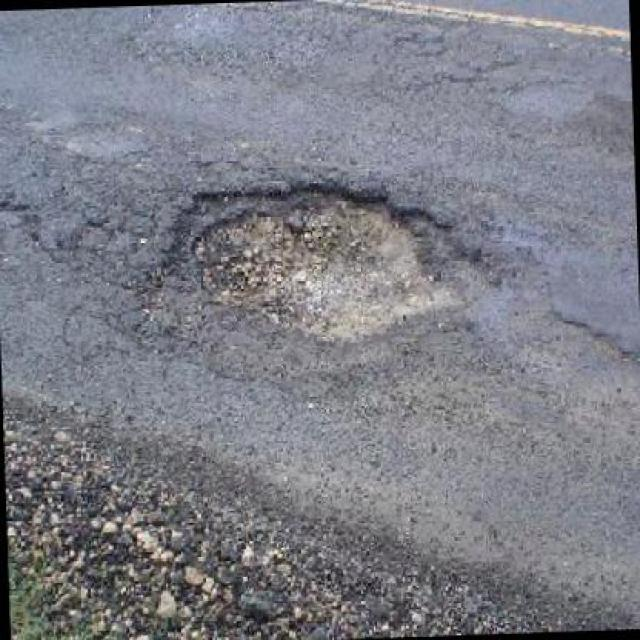pothole1: (138, 166, 502, 363)
